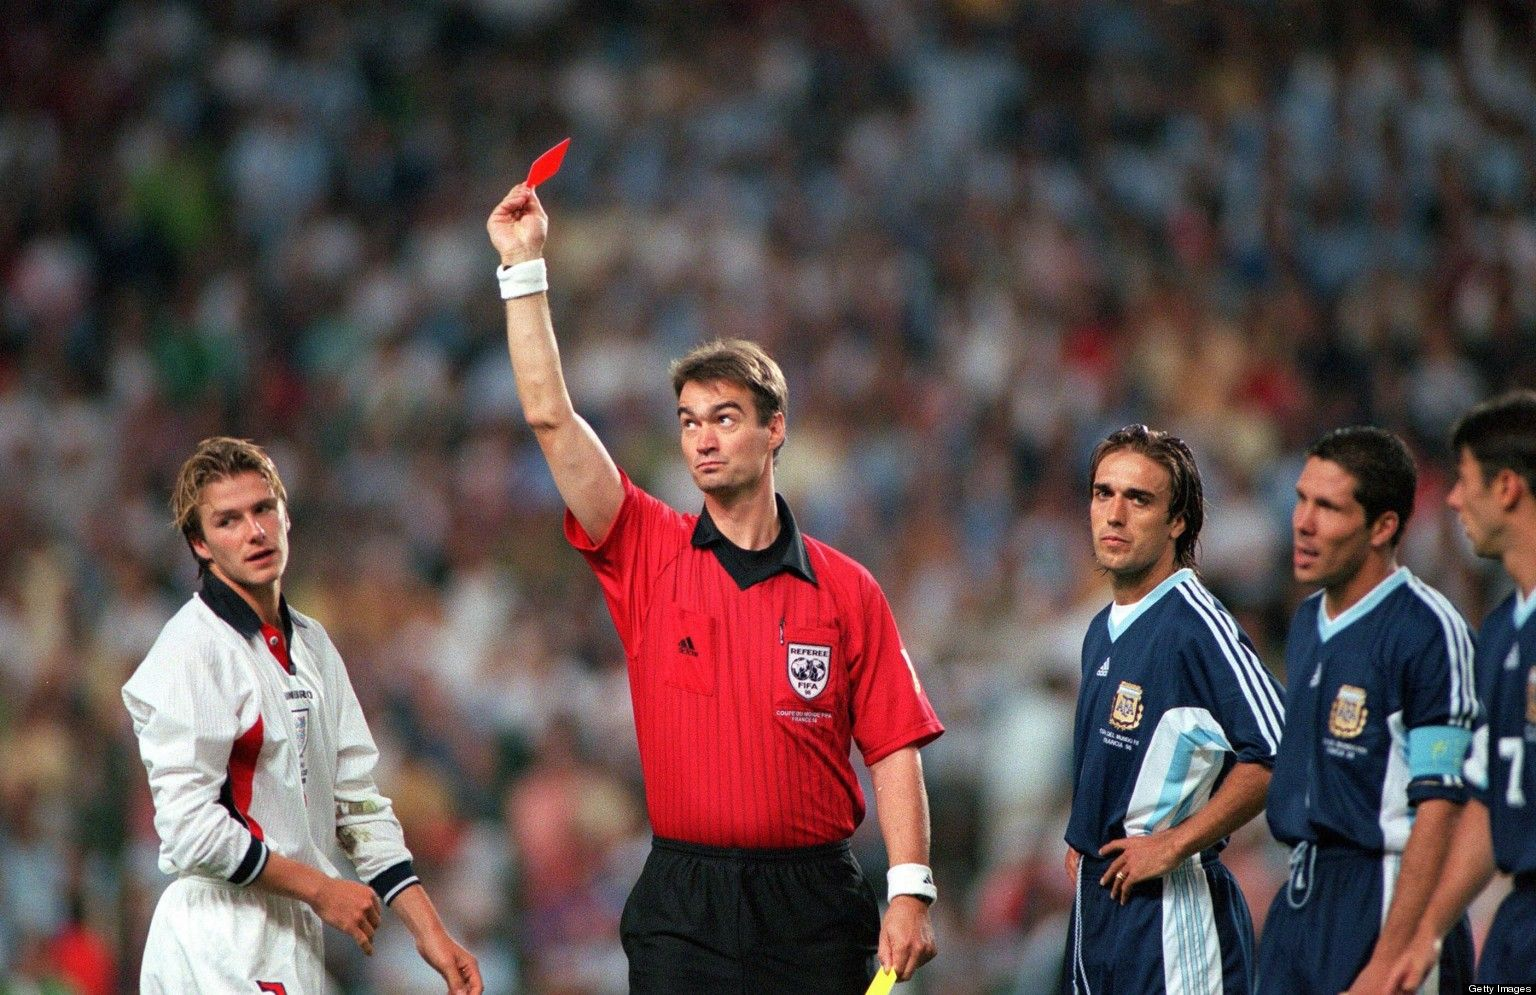red_card: (440, 134, 599, 262)
